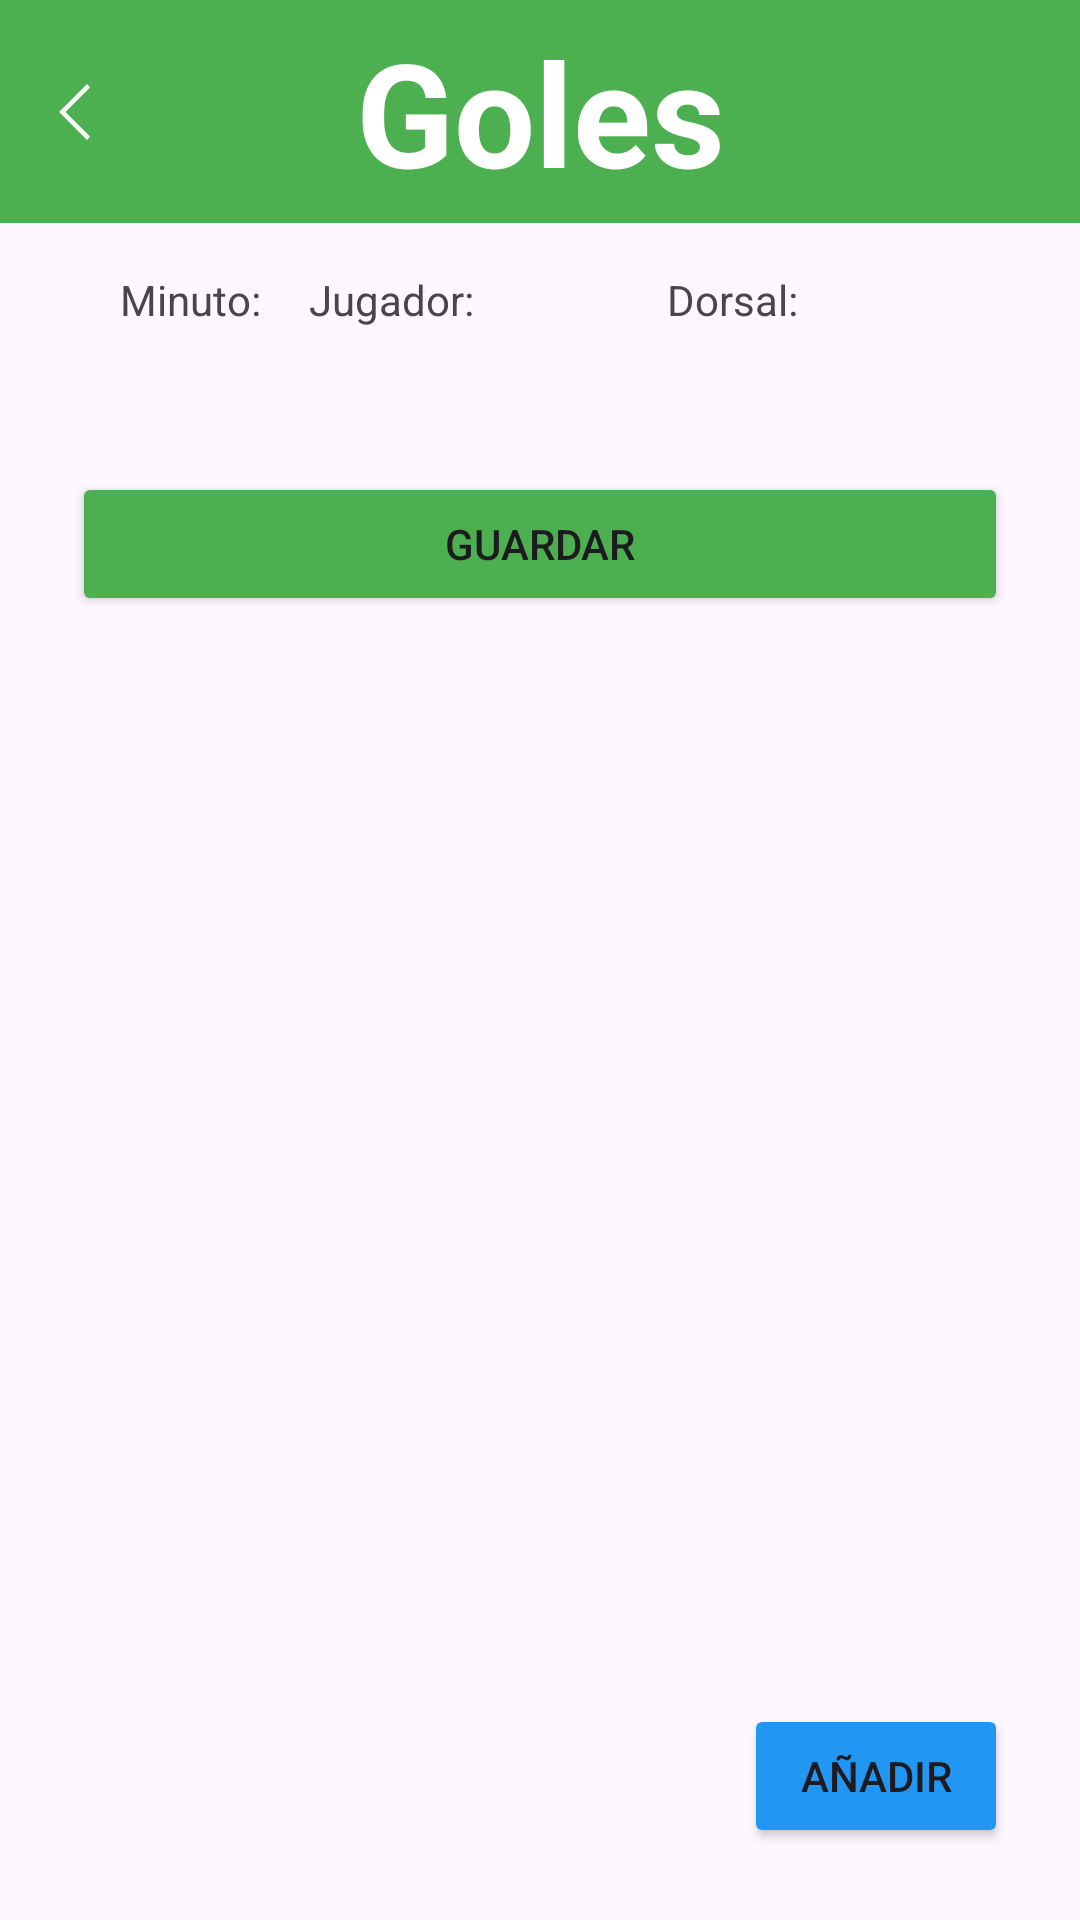

Named icons in this screenshot (1080px×1920px) and their bounding boxes, (x1, y1, x2, y2):
arrow back: (59, 84, 90, 140)
